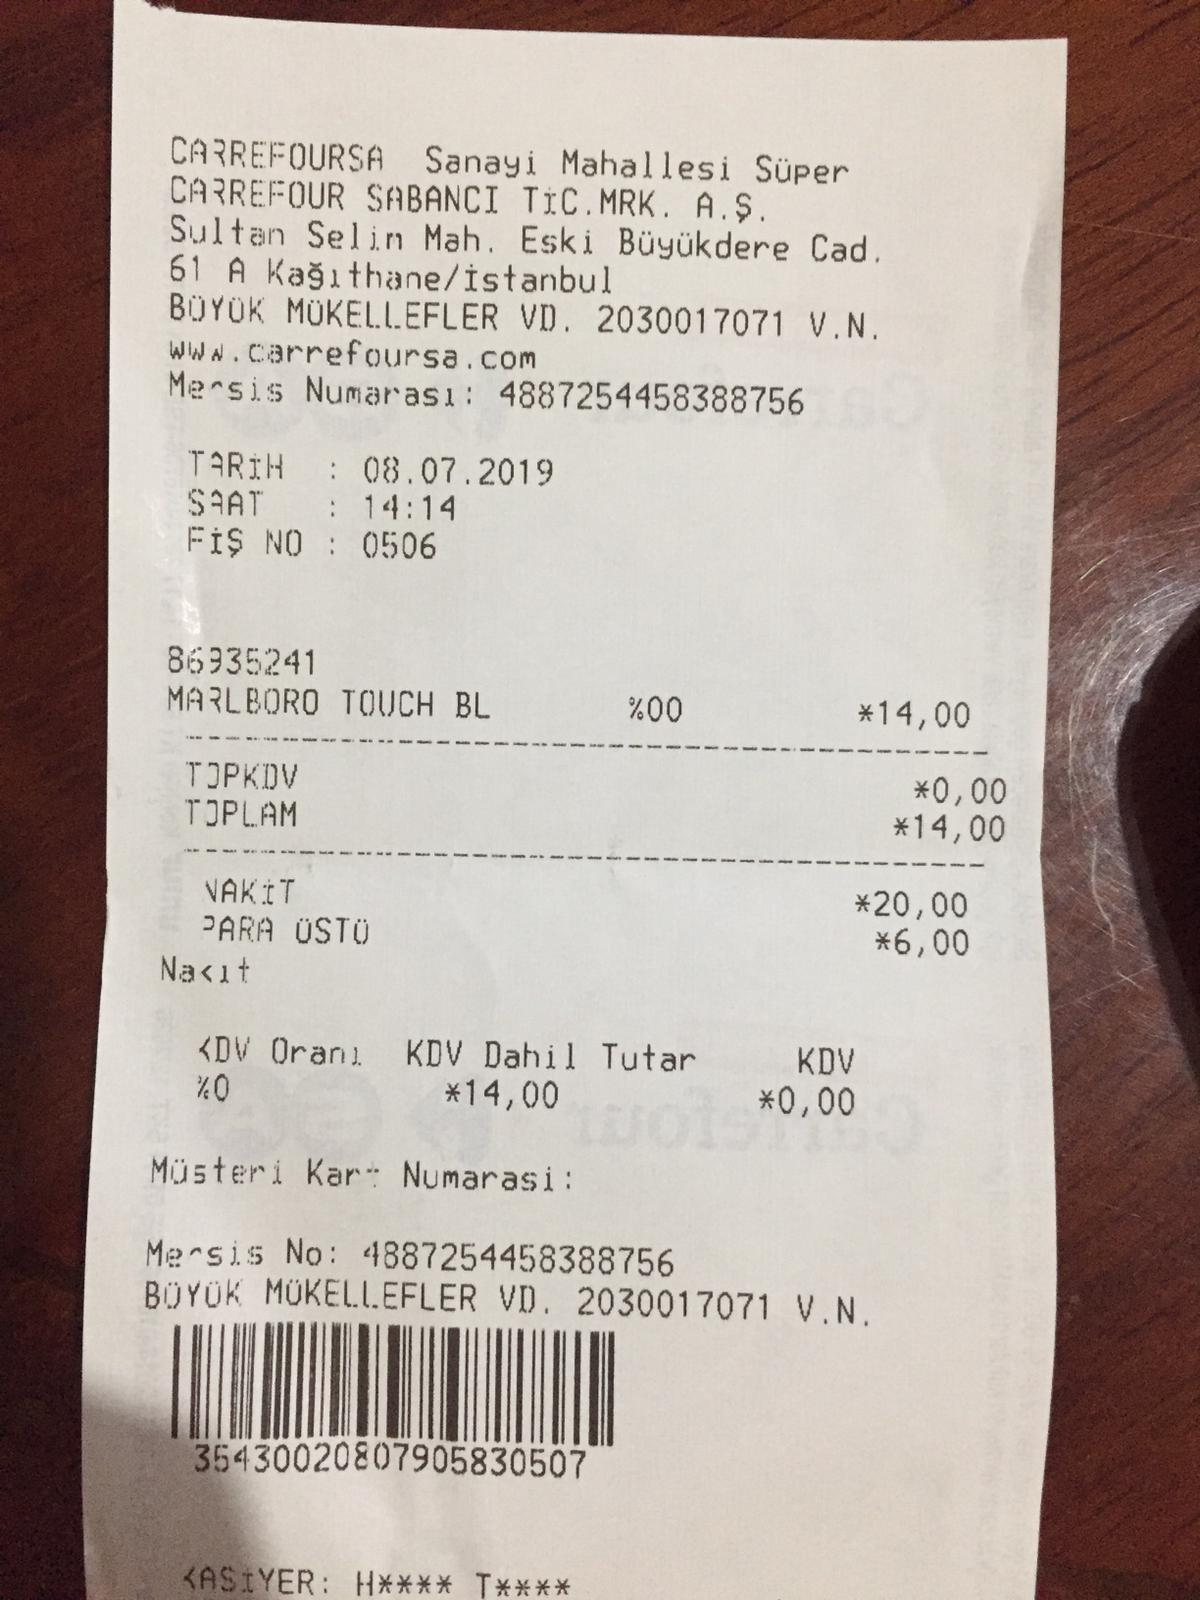total: (184, 793, 1023, 852)
